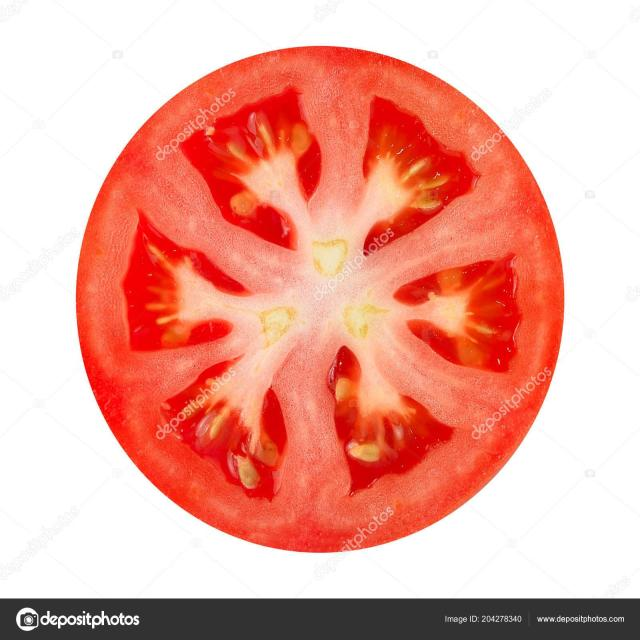Tomato: (75, 39, 568, 558)
